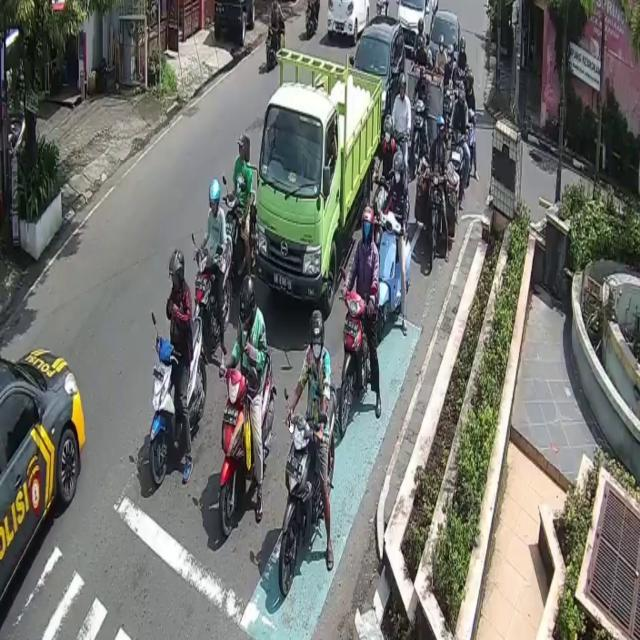bus: (279, 383, 339, 596), (148, 313, 208, 488), (221, 349, 276, 537), (339, 294, 380, 434), (190, 234, 233, 344), (376, 210, 409, 334), (221, 190, 256, 278), (428, 165, 447, 264), (412, 101, 430, 176), (448, 133, 467, 195), (266, 14, 286, 69)
motorcycle: (0, 349, 87, 612), (351, 14, 406, 142), (396, 0, 432, 57), (326, 0, 370, 38)
truck: (256, 45, 384, 313)
